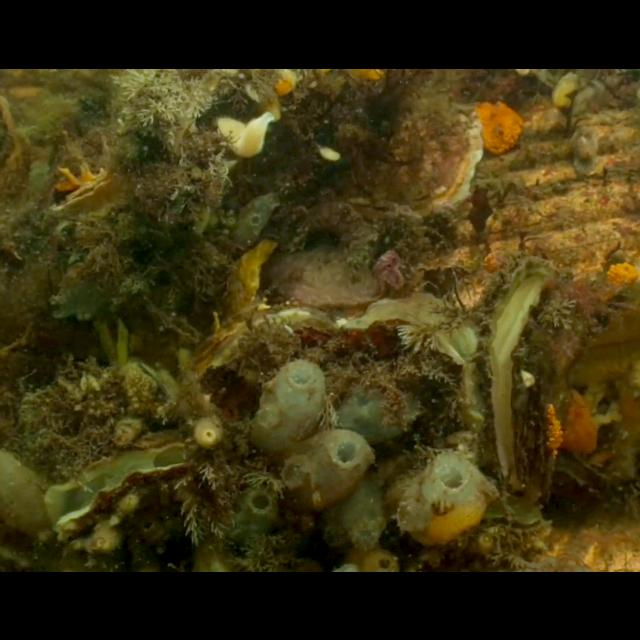Oyster-Closed: (328, 84, 484, 220), (262, 242, 384, 308)
Oyster-Open: (195, 298, 467, 424), (472, 254, 564, 503), (42, 430, 194, 550), (45, 168, 128, 222)
